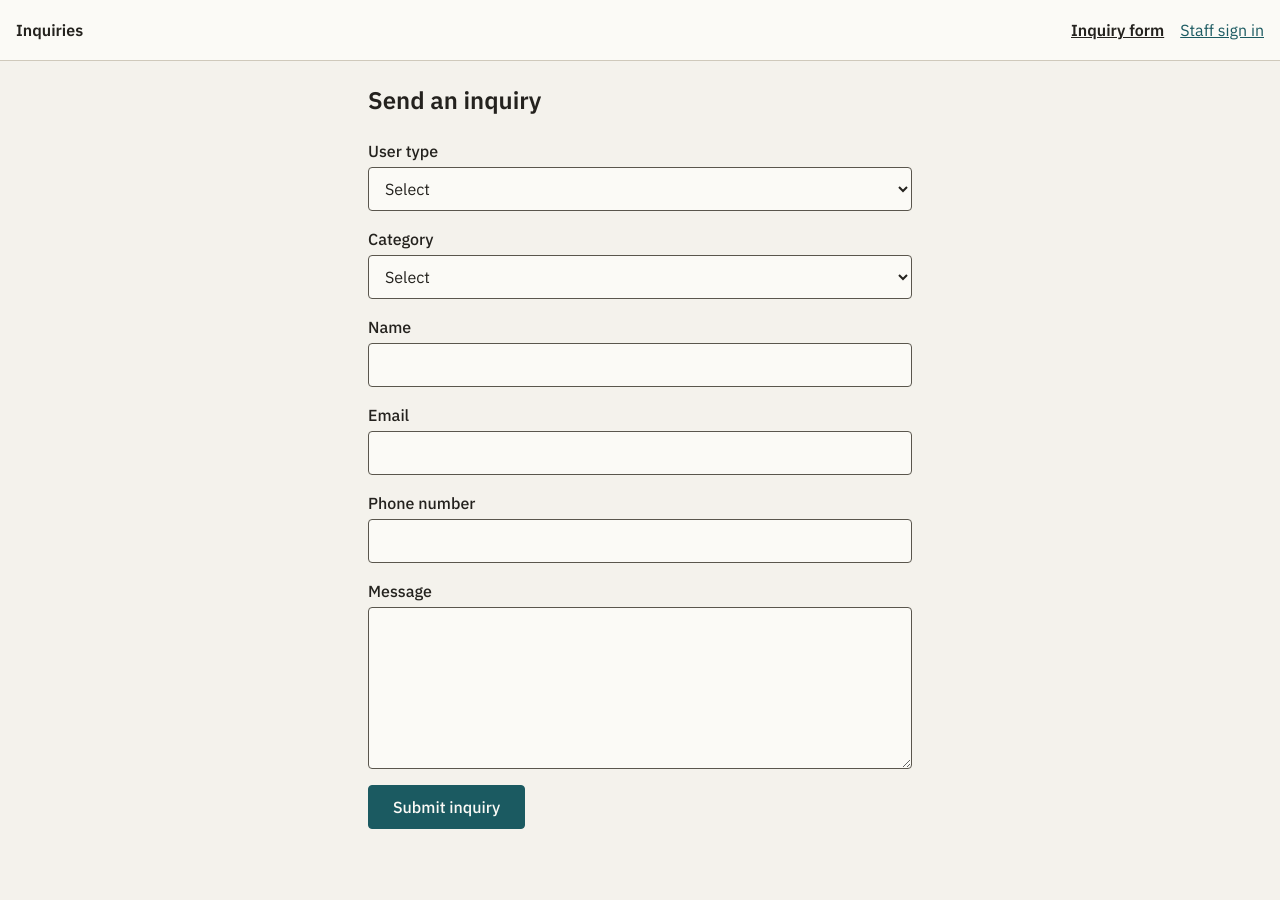
Test: inquiry form › shows every error on an empty submit
Click the button "Submit inquiry".
click(447, 807)  # box [368,785,525,829]
(page scrolled)
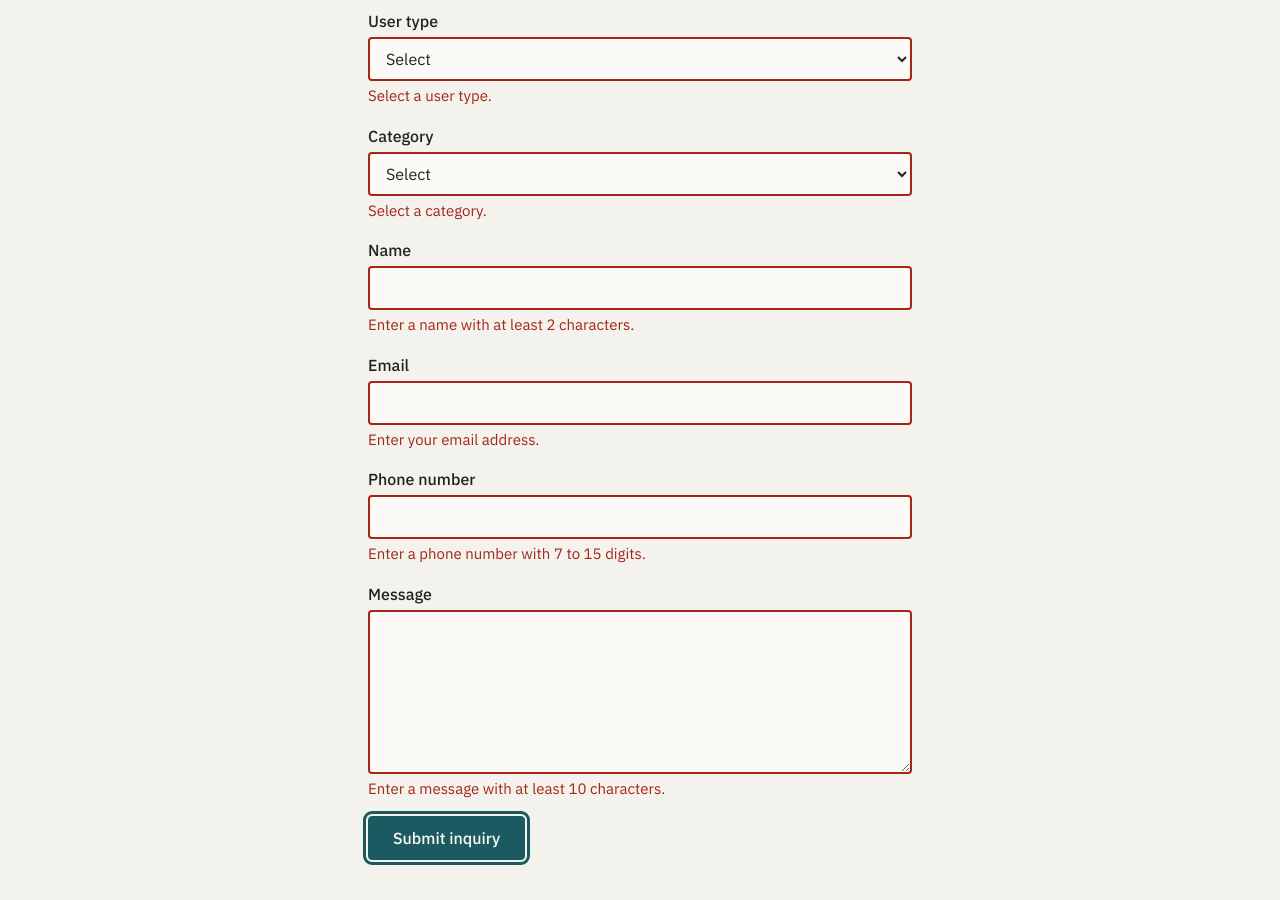
Expected: the text "Select a user type." is shown, [368,86,492,105]
Expected: the text "Select a category." is shown, [368,200,487,220]
Expected: the text "Enter a name with at least 2 characters." is shown, [368,315,634,334]
